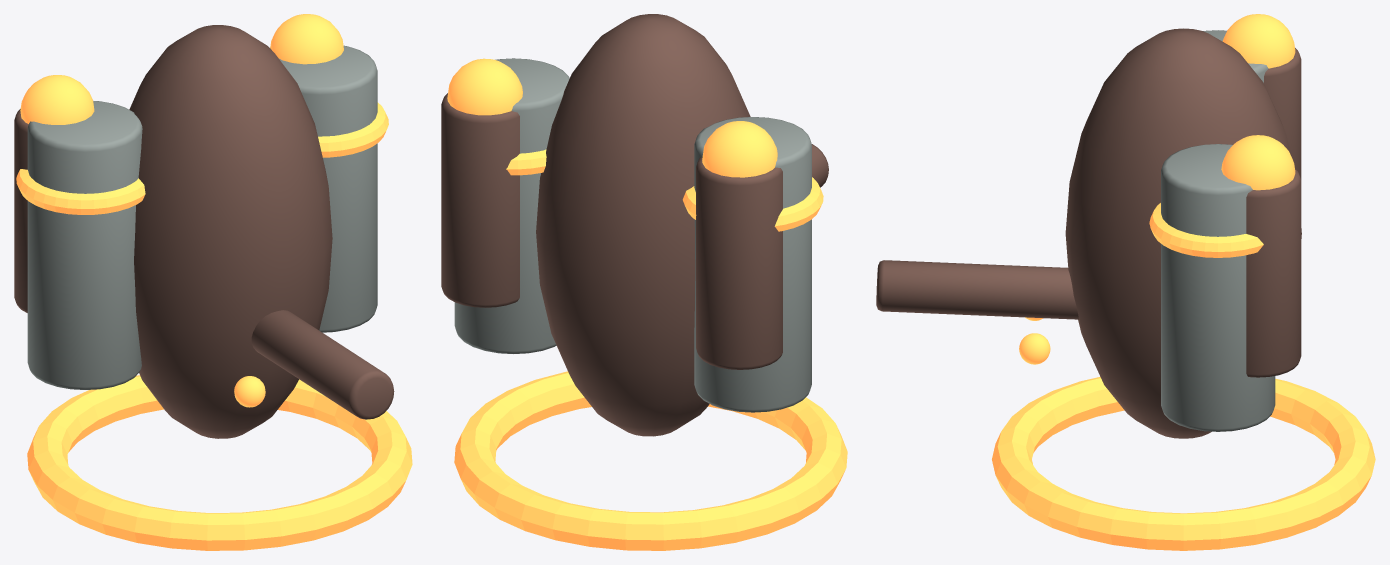
The model's file is card_p2_disruptor.glb.
3 renders of one model, left to right at view 1: azimuth 30°, elevation 25°; view 2: azimuth 150°, elevation 25°; view 3: azimuth 270°, elevation 25°, orthographic. The views are drawn at different scales.
Visible parts, largest first — view 1: card_p2_disruptor; view 2: card_p2_disruptor; view 3: card_p2_disruptor.
Part boxes in pixels (x1,y1,x2,y2): card_p2_disruptor: [14, 14, 412, 550]; card_p2_disruptor: [441, 14, 847, 550]; card_p2_disruptor: [876, 14, 1375, 550].
Bounding box in the file's own units: 1.42 × 1.71 × 1.74.
